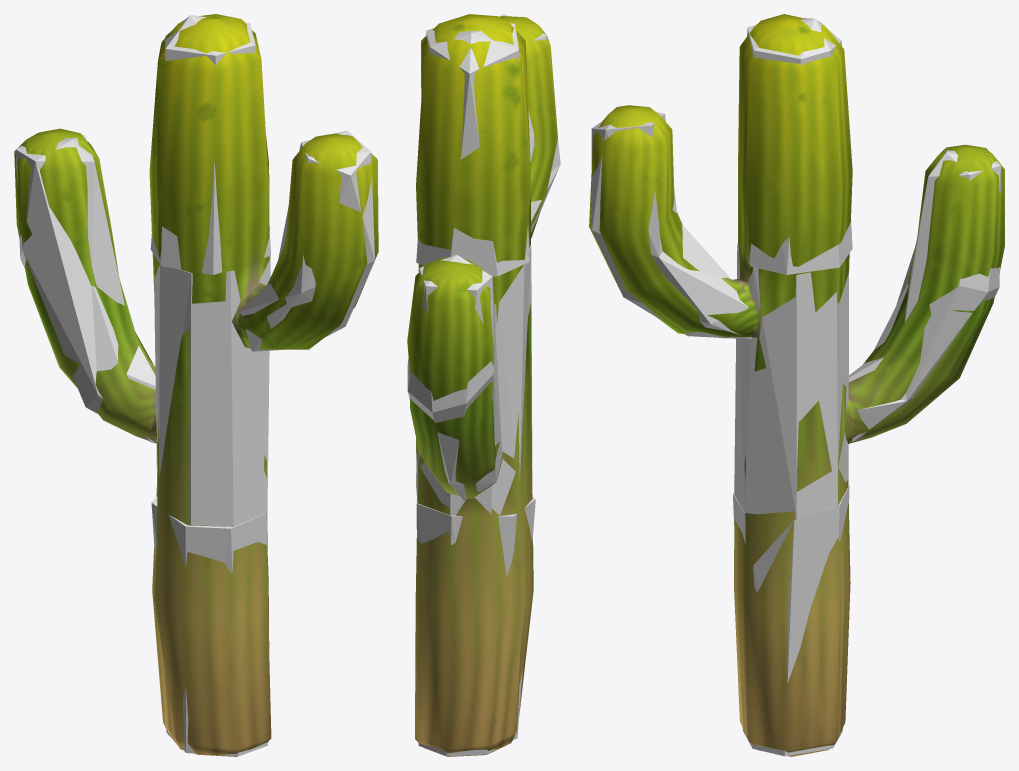
File: Fractured_2.fbx
The picture shows the model from 3 angles, left to right: view 1: azimuth 30°, elevation 25°; view 2: azimuth 150°, elevation 25°; view 3: azimuth 270°, elevation 25°; orthographic projection.
Visible parts, largest first — view 1: cactus_2_body_3, cactus_2_body_1, cactus_2_body_2_cd, cactus_2_branch_2, cactus_2_branch_1_cd, cactus_2_branch_1, cactus_2_body_2, cactus_2_branch_2_cd, cactus_2_body_1_cd, cactus_2_body_3_cd; view 2: cactus_2_body_1, cactus_2_body_3, cactus_2_branch_1, cactus_2_body_2_cd, cactus_2_branch_1_cd, cactus_2_body_3_cd, cactus_2_branch_2, cactus_2_body_2, cactus_2_body_1_cd, cactus_2_branch_2_cd; view 3: cactus_2_body_3, cactus_2_body_2_cd, cactus_2_body_1, cactus_2_branch_1, cactus_2_branch_2, cactus_2_branch_1_cd, cactus_2_body_2, cactus_2_branch_2_cd, cactus_2_body_1_cd, cactus_2_body_3_cd.
Part boxes in pixels (x1=…): cactus_2_body_3: x1=149, y1=14, x2=269, y2=273; cactus_2_body_1: x1=152, y1=492, x2=271, y2=756; cactus_2_body_2_cd: x1=154, y1=256, x2=270, y2=526; cactus_2_branch_2: x1=238, y1=133, x2=378, y2=349; cactus_2_branch_1_cd: x1=15, y1=130, x2=155, y2=443; cactus_2_branch_1: x1=14, y1=128, x2=155, y2=440; cactus_2_body_2: x1=149, y1=253, x2=269, y2=524; cactus_2_branch_2_cd: x1=240, y1=130, x2=374, y2=351; cactus_2_body_1_cd: x1=151, y1=496, x2=268, y2=756; cactus_2_body_3_cd: x1=150, y1=15, x2=270, y2=274; cactus_2_body_1: x1=415, y1=498, x2=533, y2=756; cactus_2_body_3: x1=416, y1=14, x2=531, y2=262; cactus_2_branch_1: x1=407, y1=257, x2=502, y2=498; cactus_2_body_2_cd: x1=416, y1=246, x2=532, y2=515; cactus_2_branch_1_cd: x1=407, y1=254, x2=502, y2=500; cactus_2_body_3_cd: x1=416, y1=23, x2=529, y2=276; cactus_2_branch_2: x1=500, y1=16, x2=557, y2=238; cactus_2_body_2: x1=415, y1=245, x2=532, y2=517; cactus_2_body_1_cd: x1=416, y1=497, x2=535, y2=756; cactus_2_branch_2_cd: x1=499, y1=14, x2=560, y2=233; cactus_2_body_3: x1=738, y1=14, x2=852, y2=274; cactus_2_body_2_cd: x1=734, y1=243, x2=849, y2=519; cactus_2_body_1: x1=733, y1=495, x2=850, y2=756; cactus_2_branch_1: x1=848, y1=144, x2=1004, y2=442; cactus_2_branch_2: x1=589, y1=105, x2=753, y2=338; cactus_2_branch_1_cd: x1=849, y1=147, x2=1001, y2=442; cactus_2_body_2: x1=736, y1=246, x2=854, y2=519; cactus_2_branch_2_cd: x1=591, y1=112, x2=751, y2=339; cactus_2_body_1_cd: x1=733, y1=485, x2=849, y2=756; cactus_2_body_3_cd: x1=747, y1=18, x2=852, y2=274.
Size of the model in its own units: 302 by 1127 by 595.
